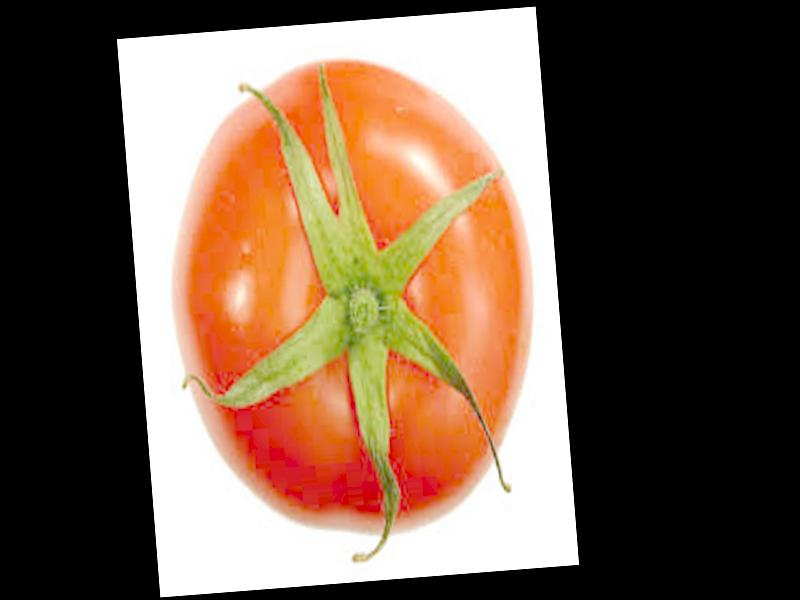Tomato: (156, 43, 550, 549)
